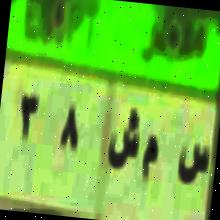3: (13, 88, 42, 154)
8: (56, 99, 84, 158)
meem: (138, 132, 160, 190)
seen: (172, 131, 211, 196)
sheen: (103, 100, 143, 177)
